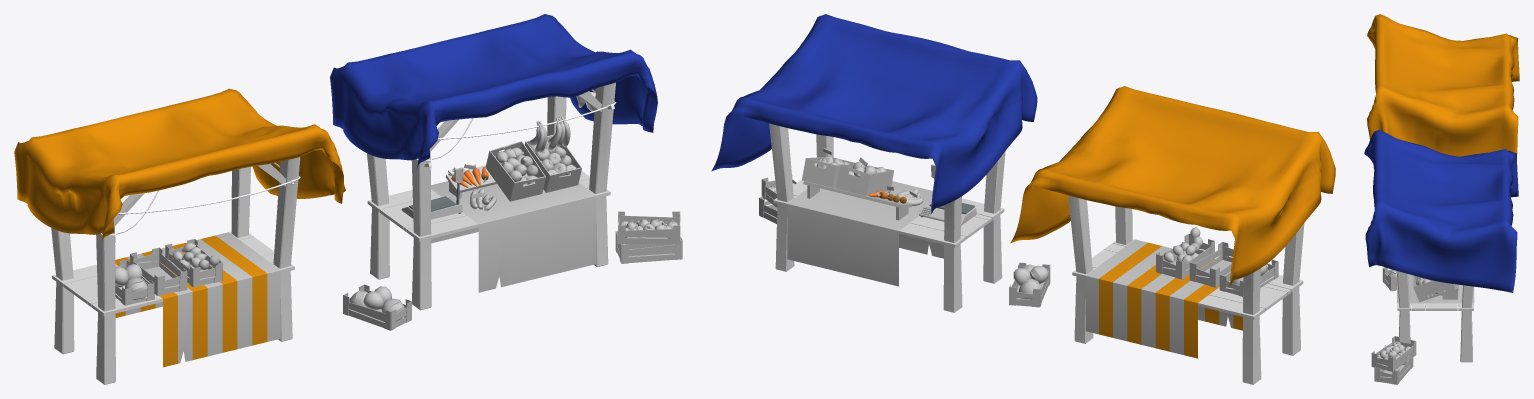
File: feira_modelo2.fbx
3 renders of one model, left to right at view 1: azimuth 30°, elevation 25°; view 2: azimuth 150°, elevation 25°; view 3: azimuth 270°, elevation 25°, orthographic. The views are drawn at different scales.
Parts seen in each view (by area): view 1: pCylinder2, pCylinder2_blinn2_0.001, Line010, Line010_Material__33_0.001, Box015_Material__19_0.001, Box015, Box040_Material__18_0.002, Box016, Box016_Material__19_0.001, Box017, Box014, Box040 (+5 smaller); view 2: pCylinder2_blinn2_0.001, pCylinder2, Line010_Material__33_0.001, Line010, Box015_Material__19_0.001, Box015, Box040_Material__18_0.002, Box016_Material__19_0.001, Box016, Box017, Box018, Box040 (+3 smaller); view 3: pCylinder2, pCylinder2_blinn2_0.001, Box015, Box014, Box018, Line010, Box013, Box016, Object042_Material__4_0, Box040, Box020.
Part boxes in pixels (x1,y1,x2,y2): pCylinder2: (330,14,657,168); pCylinder2_blinn2_0.001: (14,88,345,242); Line010: (431,181,596,292); Line010_Material__33_0.001: (115,232,280,367); Box015_Material__19_0.001: (51,157,300,384); Box015: (367,82,615,310); Box040_Material__18_0.002: (130,239,222,295); Box016: (367,171,610,241); Box016_Material__19_0.001: (52,231,294,316); Box017: (485,141,545,201); Box014: (618,211,680,244); Box040: (343,284,411,330); pCylinder2_blinn2_0.001: (1010,86,1335,285); pCylinder2: (711,14,1037,213); Line010_Material__33_0.001: (1086,239,1242,358); Line010: (787,181,943,286); Box015_Material__19_0.001: (1068,195,1304,384); Box015: (769,123,1005,312); Box040_Material__18_0.002: (1156,233,1233,287); Box016_Material__19_0.001: (1072,239,1303,319); Box016: (773,179,1004,247); Box017: (836,164,893,195); Box018: (802,157,855,187); Box040: (1009,262,1050,307); pCylinder2: (1364,130,1518,292); pCylinder2_blinn2_0.001: (1367,14,1519,156); Box015: (1396,271,1473,362); Box014: (1371,336,1416,371); Box018: (1413,275,1455,301); Line010: (1397,274,1474,303); Box013: (1374,357,1413,384); Box016: (1397,303,1473,310); Object042_Material__4_0: (1377,341,1411,364); Box040: (1382,267,1396,291); Box020: (1441,284,1458,299).
Bounding box in the file's own units: 8980 × 3282 × 2761.
